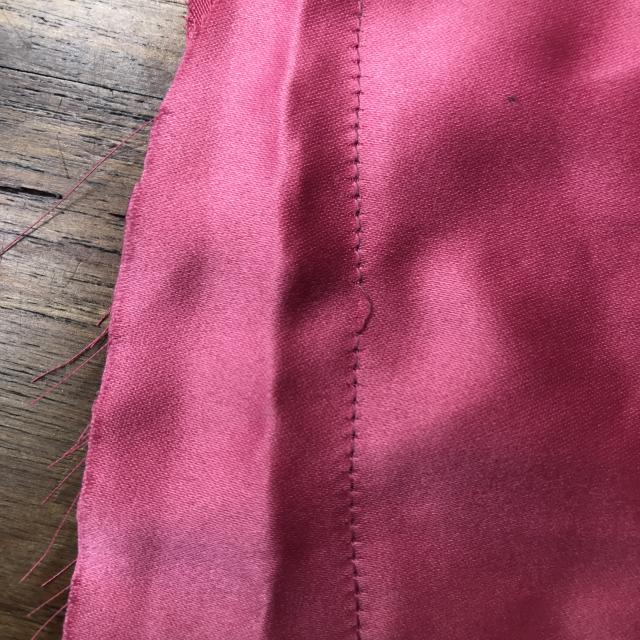skip: (337, 267, 395, 345)
